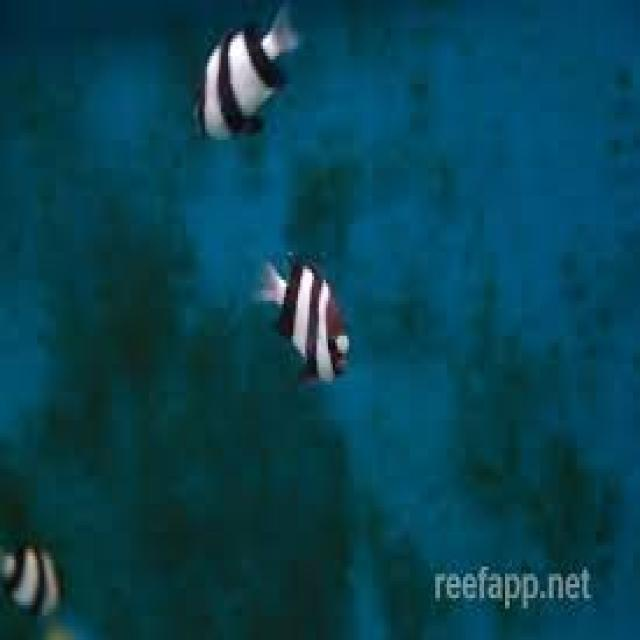Three_striped DasmselFish: (188, 3, 298, 156), (250, 238, 353, 382), (0, 524, 66, 616)
